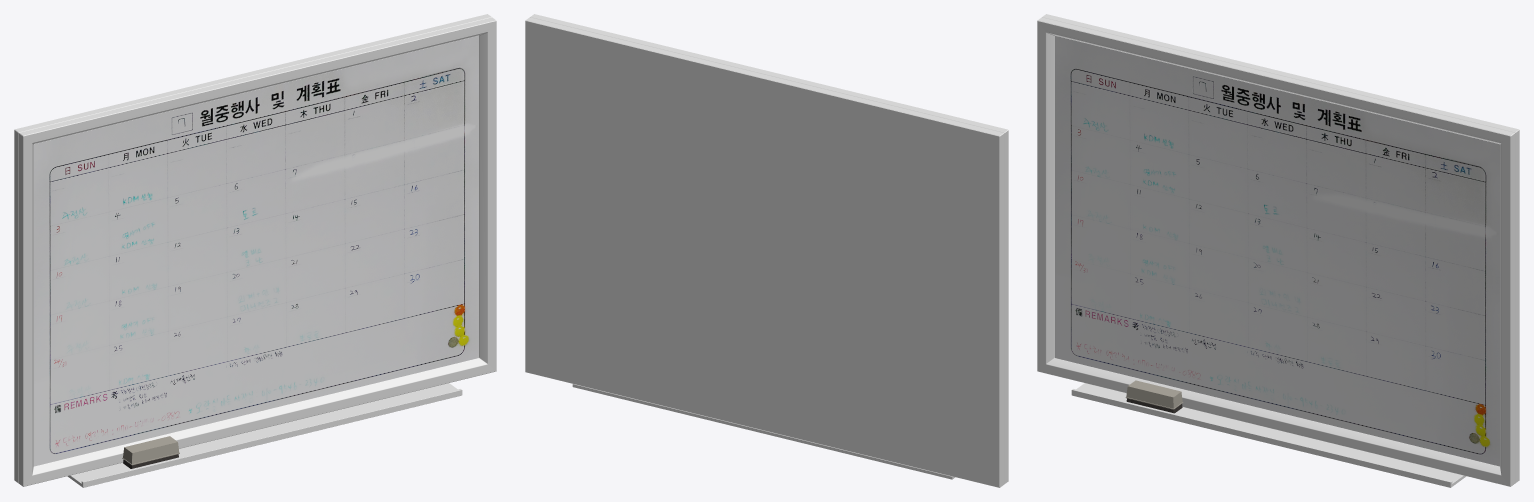
The model's file is LC_3156_event_schedule_LOD3.fbx.
3 renders of one model, left to right at view 1: azimuth 30°, elevation 25°; view 2: azimuth 150°, elevation 25°; view 3: azimuth 330°, elevation 25°, orthographic.
Visible parts, largest first — view 1: LC_3156_es_LOD3; view 2: LC_3156_es_LOD3; view 3: LC_3156_es_LOD3.
Boxes of the visible parts, x1=… form: LC_3156_es_LOD3: x1=14, y1=14, x2=496, y2=487; LC_3156_es_LOD3: x1=525, y1=14, x2=1008, y2=487; LC_3156_es_LOD3: x1=1037, y1=14, x2=1519, y2=487.
Size of the model in its own units: 120 by 85.76 by 9.56.
1 material, 1 textured.
